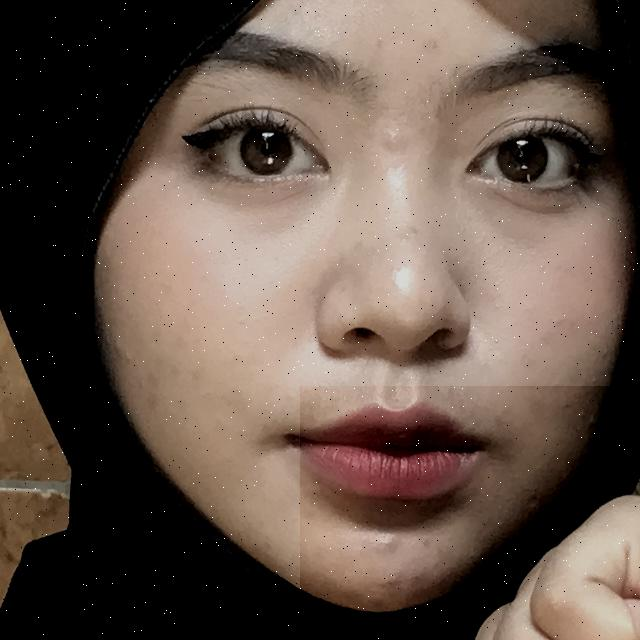sedih: (300, 386, 640, 640)
